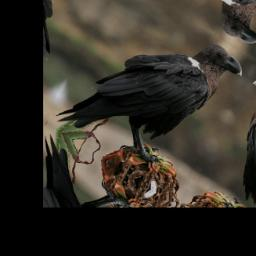Crow: (53, 0, 247, 196)
